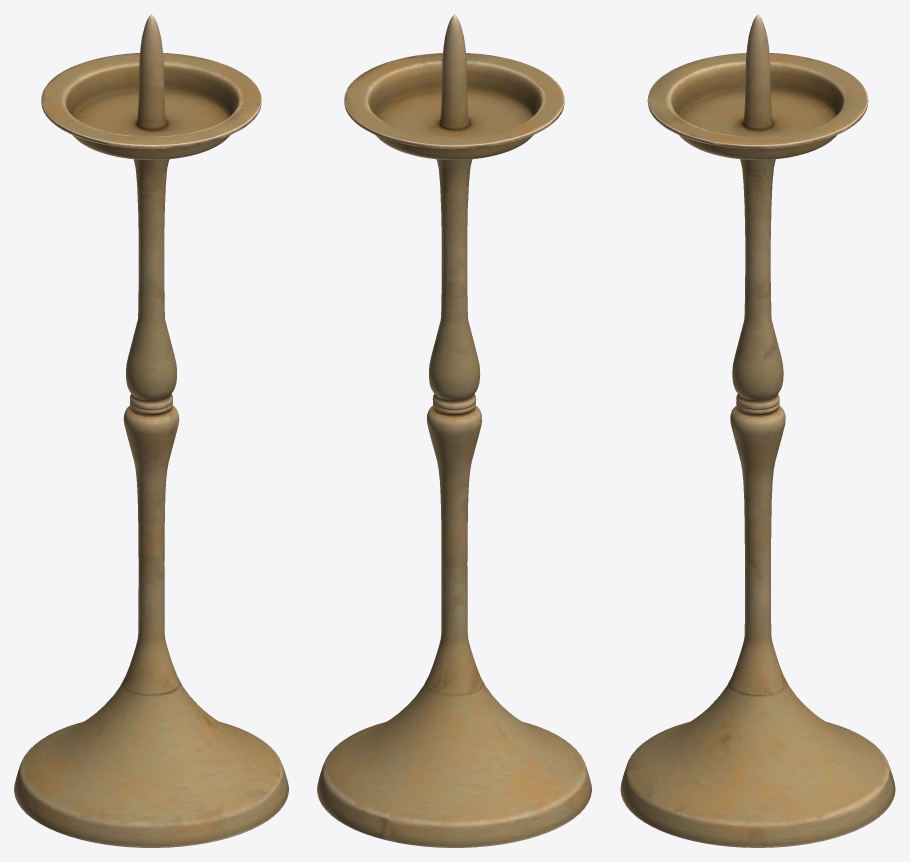
Rendered from candle.glb.
3 renders of one model, left to right at view 1: azimuth 30°, elevation 25°; view 2: azimuth 150°, elevation 25°; view 3: azimuth 270°, elevation 25°, orthographic.
Parts seen in each view (by area): view 1: SM_Candlestick128_M_Candlestick128_0; view 2: SM_Candlestick128_M_Candlestick128_0; view 3: SM_Candlestick128_M_Candlestick128_0.
Boxes of the visible parts, x1,y1,x2,y2 form: SM_Candlestick128_M_Candlestick128_0: (14,14,288,847); SM_Candlestick128_M_Candlestick128_0: (317,14,591,847); SM_Candlestick128_M_Candlestick128_0: (620,14,895,847).
Bounding box in the file's own units: 0.1282 × 0.399 × 0.1282.
Materials: 1 (1 with a texture image).
